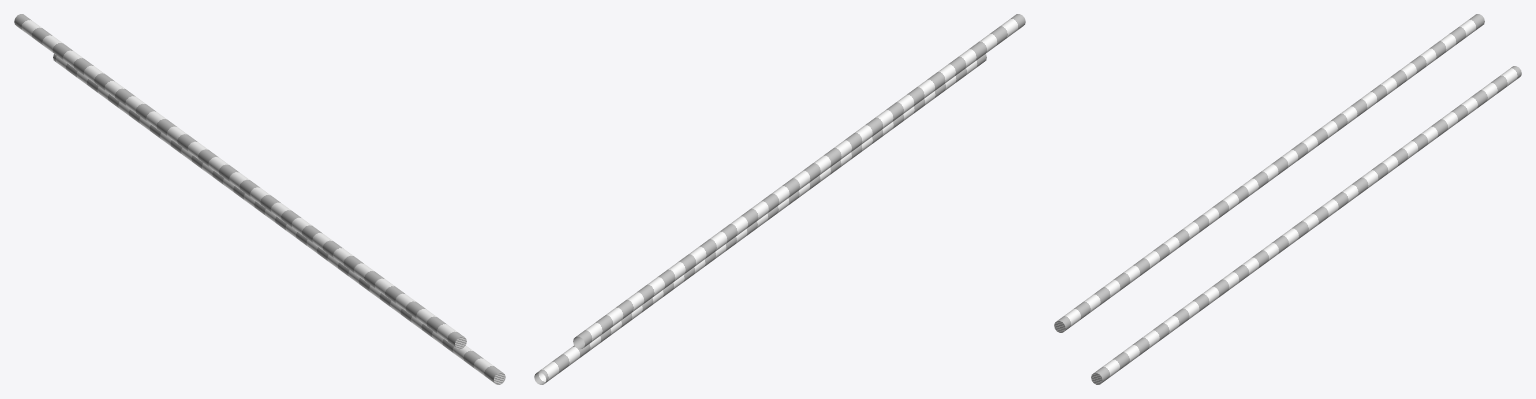
File: Rail_Right_Long_Mid.fbx
The picture shows the model from 3 angles, left to right: view 1: azimuth 30°, elevation 25°; view 2: azimuth 150°, elevation 25°; view 3: azimuth 330°, elevation 25°; orthographic projection. The views are drawn at different scales.
Parts seen in each view (by area): view 1: Rail_Right_Long_Mid; view 2: Rail_Right_Long_Mid; view 3: Rail_Right_Long_Mid.
Part boxes in pixels (bbox=[...]): Rail_Right_Long_Mid: bbox=[14, 14, 505, 384]; Rail_Right_Long_Mid: bbox=[534, 14, 1025, 384]; Rail_Right_Long_Mid: bbox=[1054, 14, 1521, 384].
Bounding box in the file's own units: 33.35 × 500 × 36.23.
1 material, 1 textured.
